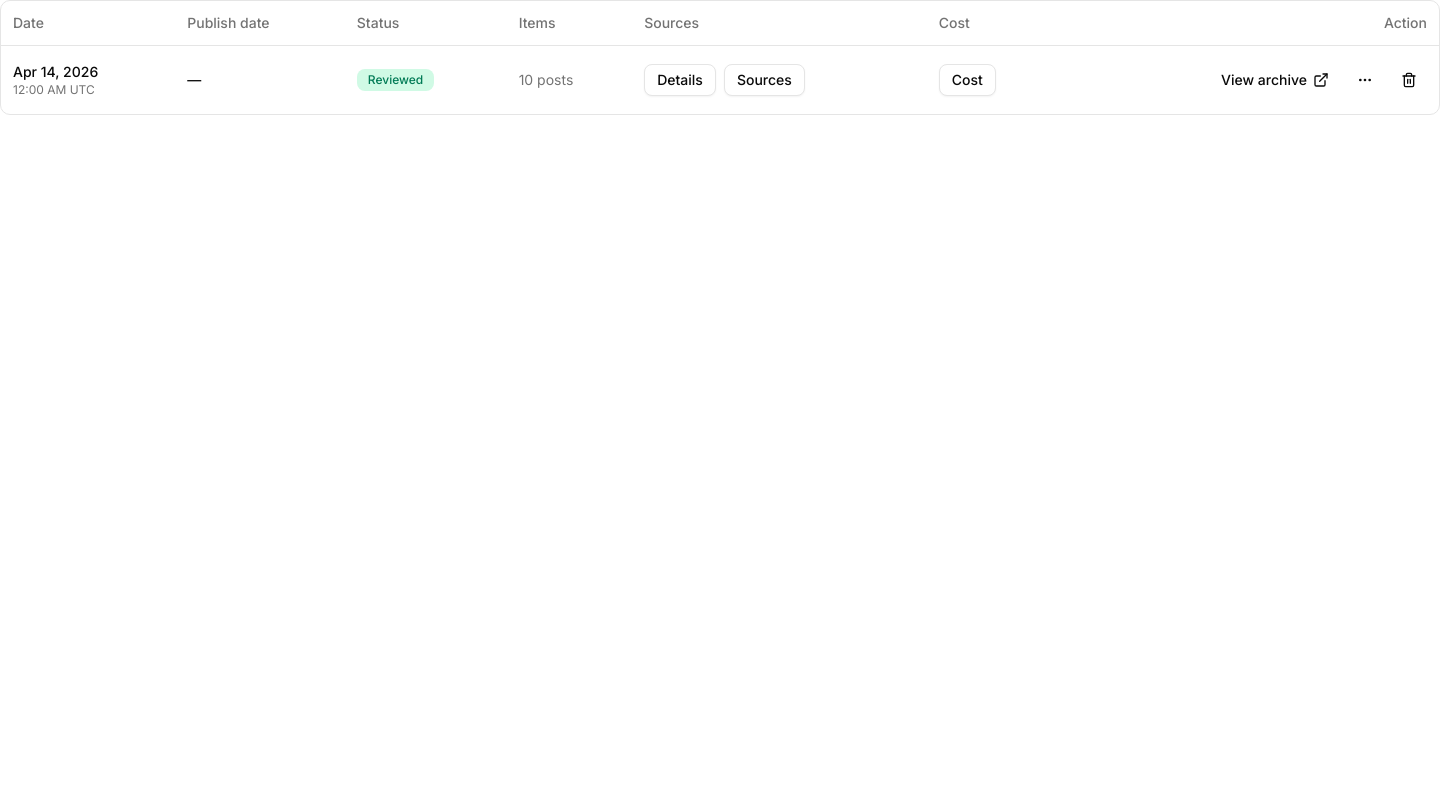
Test case: RunsTable delete dialog (REQ-3, REQ-4, REQ-5) › REQ-5: buttons in dialog become disabled while delete is pending
Click the button named "delete newsletter".
click(1409, 80)  # box x1=1391 y1=62 x2=1427 y2=98
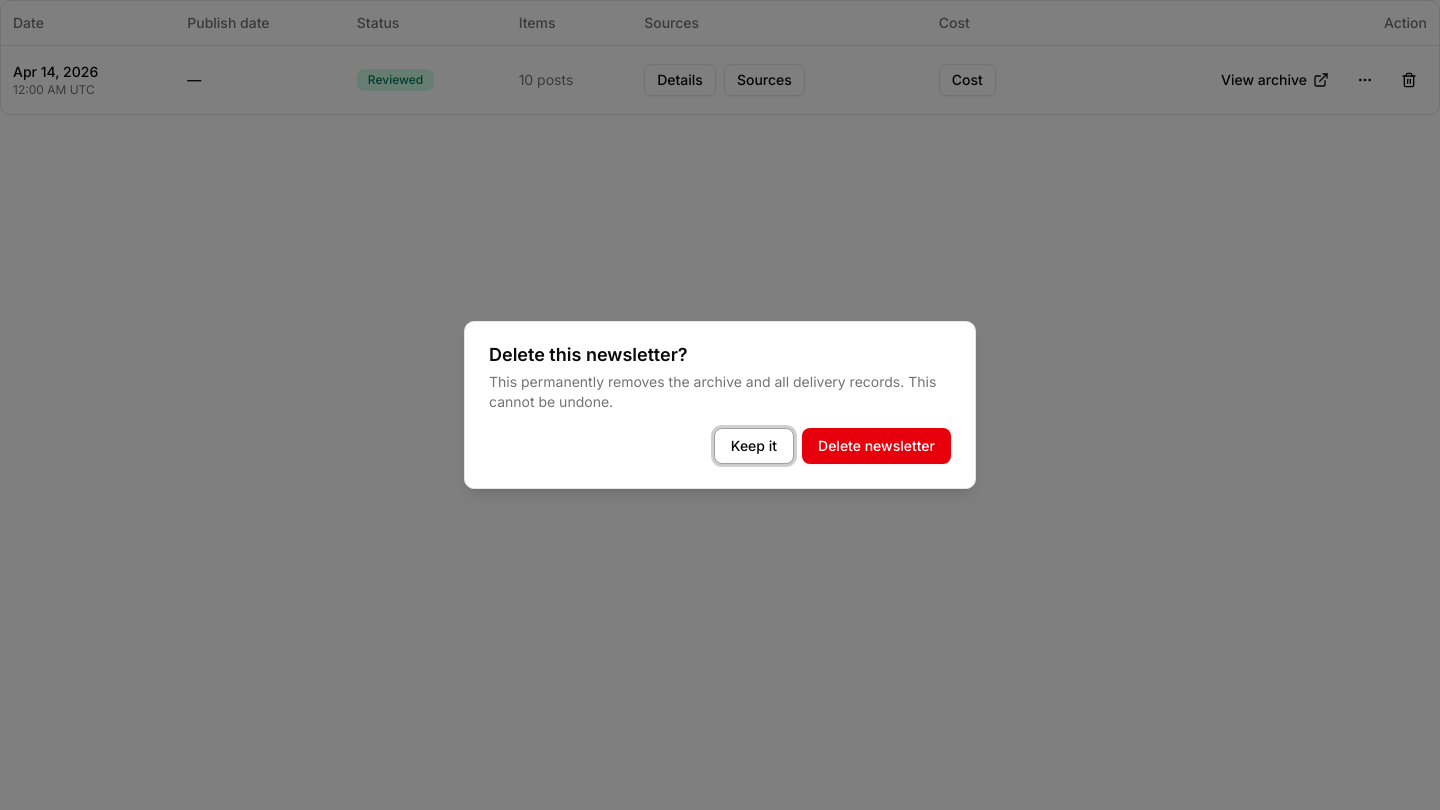
Result: the heading "Delete this newsletter?" is shown at x1=489 y1=344 x2=688 y2=365
Click the button "Delete newsletter".
click(876, 446)  # box x1=802 y1=428 x2=951 y2=464
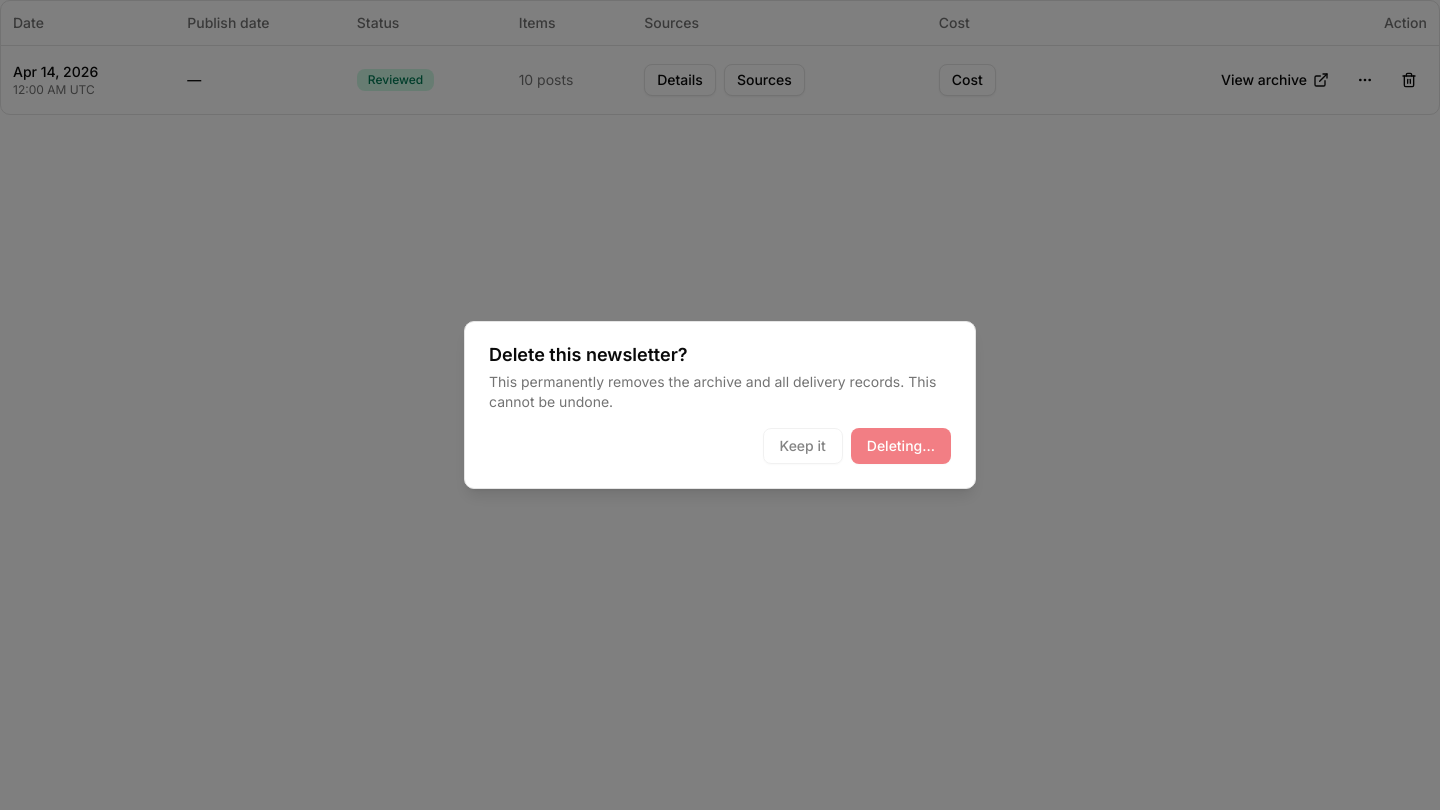
Result: the button "Deleting…" is disabled at x1=851 y1=428 x2=951 y2=464
Result: the button "Keep it" is disabled at x1=763 y1=428 x2=843 y2=464
